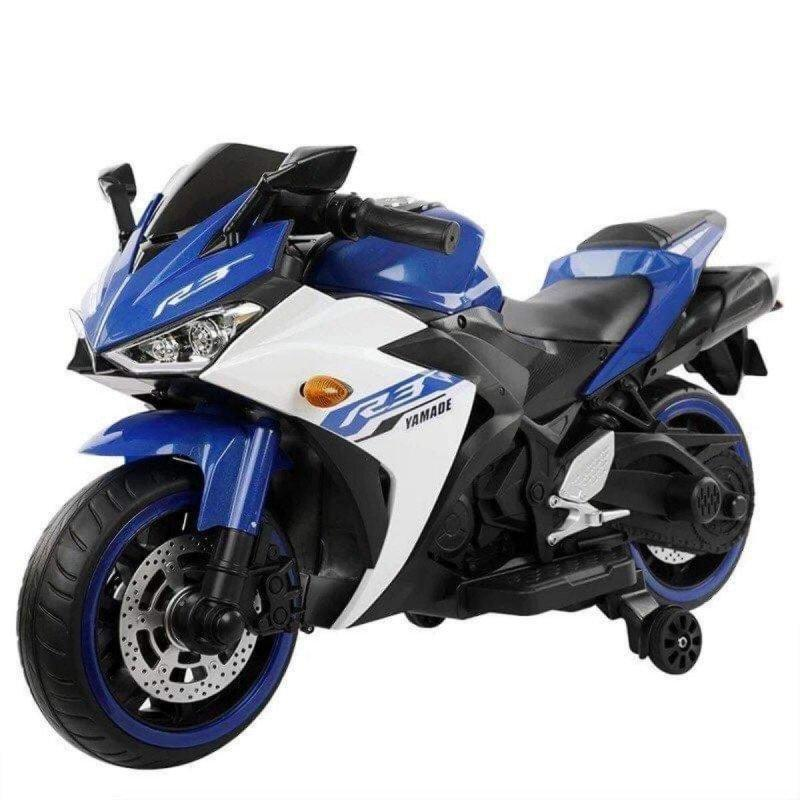motorbike: (15, 142, 789, 770)
